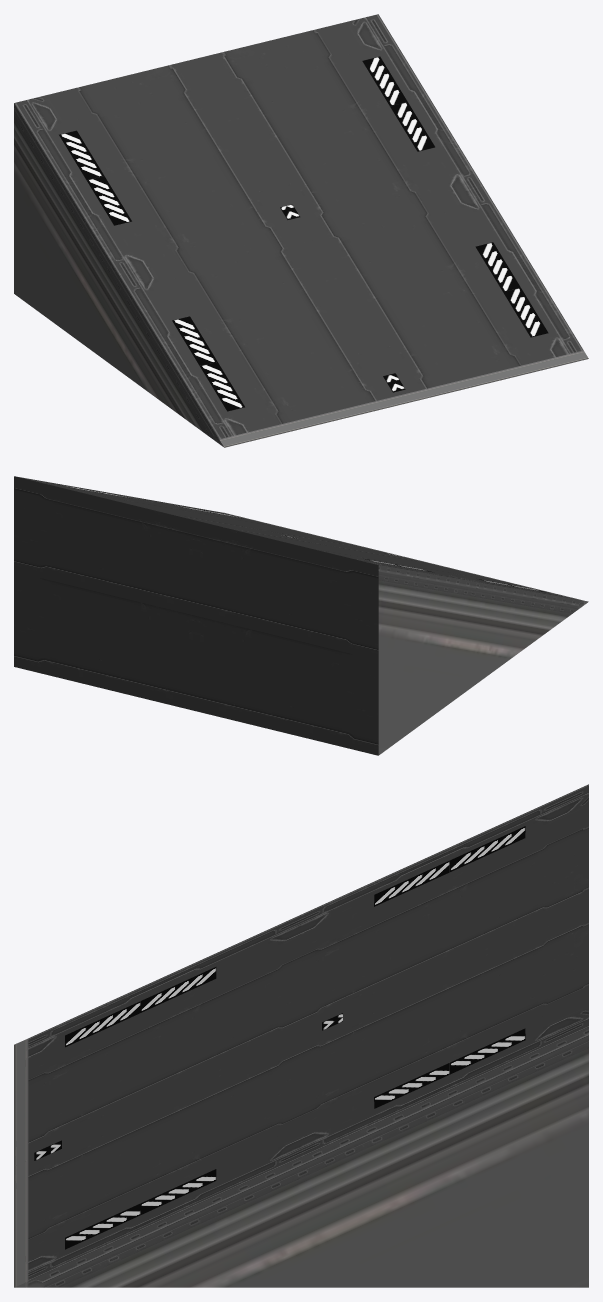
File: Platform_Ramp_4Wide.glb
3 views of the same model, one above another, from view 1: azimuth 30°, elevation 25°; view 2: azimuth 150°, elevation 25°; view 3: azimuth 270°, elevation 25° (orthographic). The views are drawn at different scales.
Parts seen in each view (by area): view 1: Platform_Ramp_4Wide; view 2: Platform_Ramp_4Wide; view 3: Platform_Ramp_4Wide.
Part boxes in pixels (x1,y1,x2,y2): Platform_Ramp_4Wide: (14, 14, 588, 447); Platform_Ramp_4Wide: (14, 476, 588, 755); Platform_Ramp_4Wide: (14, 784, 588, 1287).
Bounding box in the file's own units: 4 × 2 × 4.
Materials: 3 (3 with a texture image).
